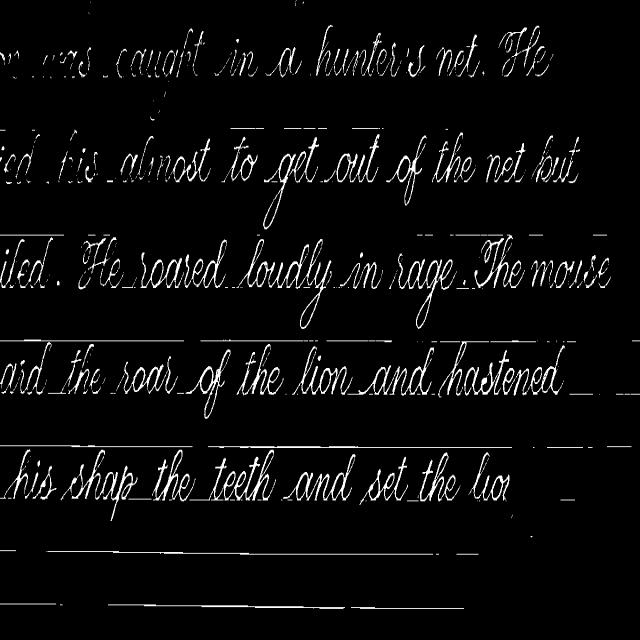noise: (0, 231, 85, 291), (44, 548, 478, 557), (107, 601, 464, 610), (40, 47, 91, 77), (208, 445, 513, 450), (0, 444, 194, 450), (0, 49, 34, 81), (280, 126, 384, 132), (0, 232, 64, 241), (569, 389, 640, 396), (462, 340, 538, 345), (0, 602, 67, 607), (0, 538, 18, 554), (52, 340, 184, 342), (0, 338, 50, 342), (545, 445, 595, 449), (230, 127, 272, 131), (344, 388, 365, 396), (450, 233, 502, 236), (284, 127, 328, 130), (190, 494, 211, 500), (200, 340, 316, 341), (431, 340, 460, 344), (604, 445, 632, 449), (230, 127, 265, 130), (48, 390, 68, 395), (562, 340, 576, 345), (406, 498, 420, 503), (350, 127, 384, 129), (328, 340, 392, 341), (560, 498, 575, 502), (85, 231, 96, 236), (416, 233, 433, 236), (592, 233, 608, 236), (528, 233, 544, 236), (130, 498, 152, 500), (177, 392, 186, 395), (0, 128, 6, 132), (631, 340, 640, 342), (151, 116, 154, 121), (104, 233, 109, 236), (256, 233, 260, 236), (31, 129, 36, 131)
not-noise: (232, 235, 610, 328), (360, 341, 564, 396), (314, 26, 486, 78), (46, 137, 212, 183), (116, 28, 204, 104), (384, 133, 477, 204), (262, 132, 386, 184), (359, 452, 462, 504), (60, 450, 136, 519), (128, 240, 230, 288), (485, 137, 580, 184), (281, 454, 356, 500), (210, 454, 278, 500), (498, 26, 554, 77), (236, 343, 284, 396), (78, 236, 126, 288), (295, 346, 345, 395), (116, 357, 177, 394), (197, 350, 230, 418), (153, 450, 194, 500), (468, 452, 509, 500), (0, 353, 46, 395), (220, 136, 260, 183), (68, 343, 104, 394), (214, 39, 258, 76), (263, 170, 288, 229), (0, 145, 34, 185), (265, 46, 304, 76), (226, 47, 254, 74)
